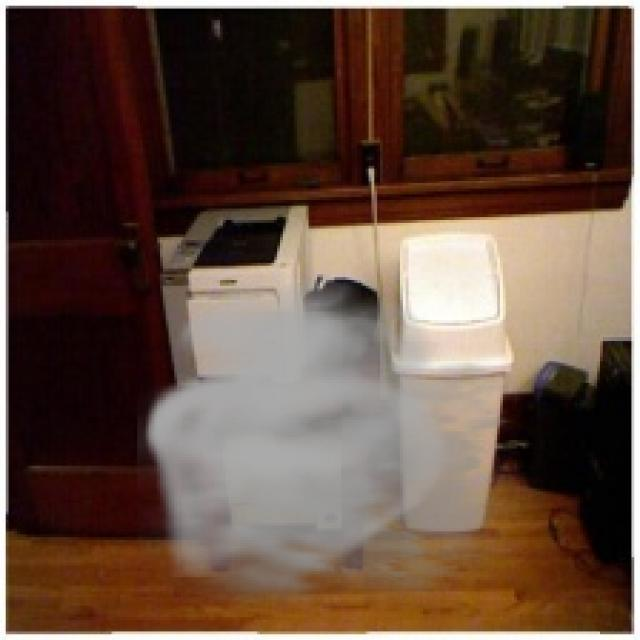Smoke: (137, 274, 557, 623)
